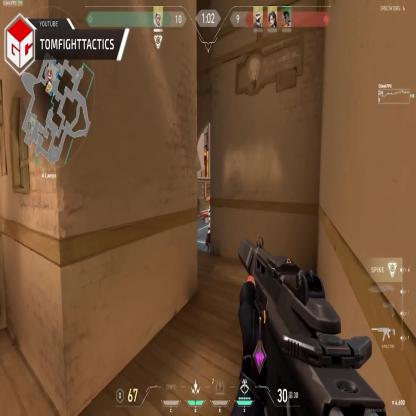enemy: (203, 201, 219, 254)
enemy_head: (208, 205, 212, 216)
